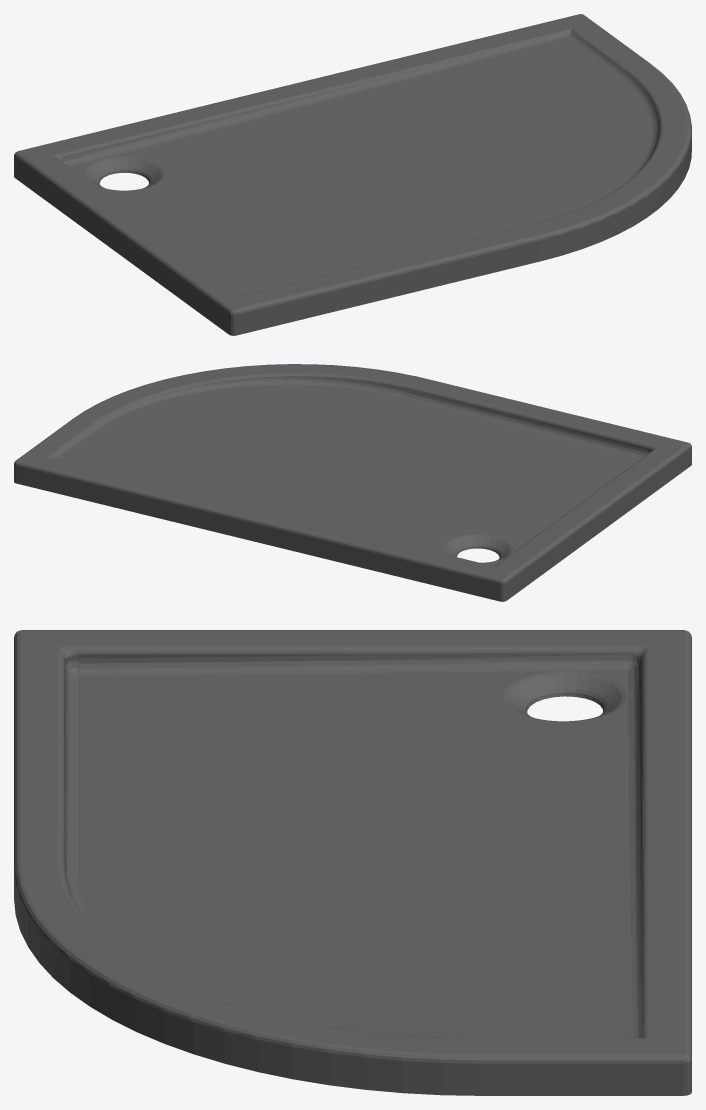
File: AEC_51231.glb
The picture shows the model from 3 angles, top to bottom: view 1: azimuth 30°, elevation 25°; view 2: azimuth 150°, elevation 25°; view 3: azimuth 270°, elevation 25°; orthographic projection. The views are drawn at different scales.
Visible parts, largest first — view 1: 0; view 2: 0; view 3: 0.
Part boxes in pixels (<box>): 0: <box>14,14,691,335</box>; 0: <box>14,364,691,601</box>; 0: <box>14,630,691,1095</box>.
Size of the model in its own units: 1.2 by 0.05 by 0.8.
Materials: 1 (1 with a texture image).
